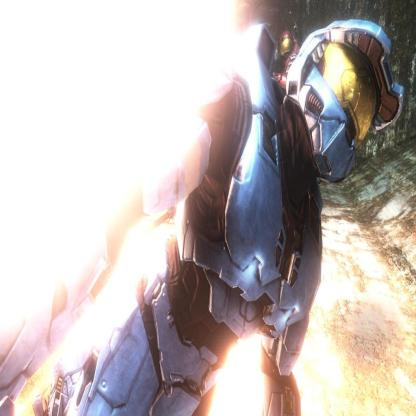Helmet: (286, 16, 408, 184)
